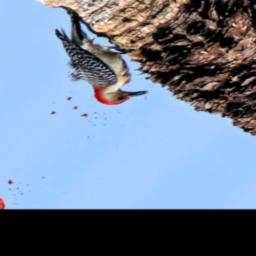Woodpecker: (9, 7, 185, 115)
